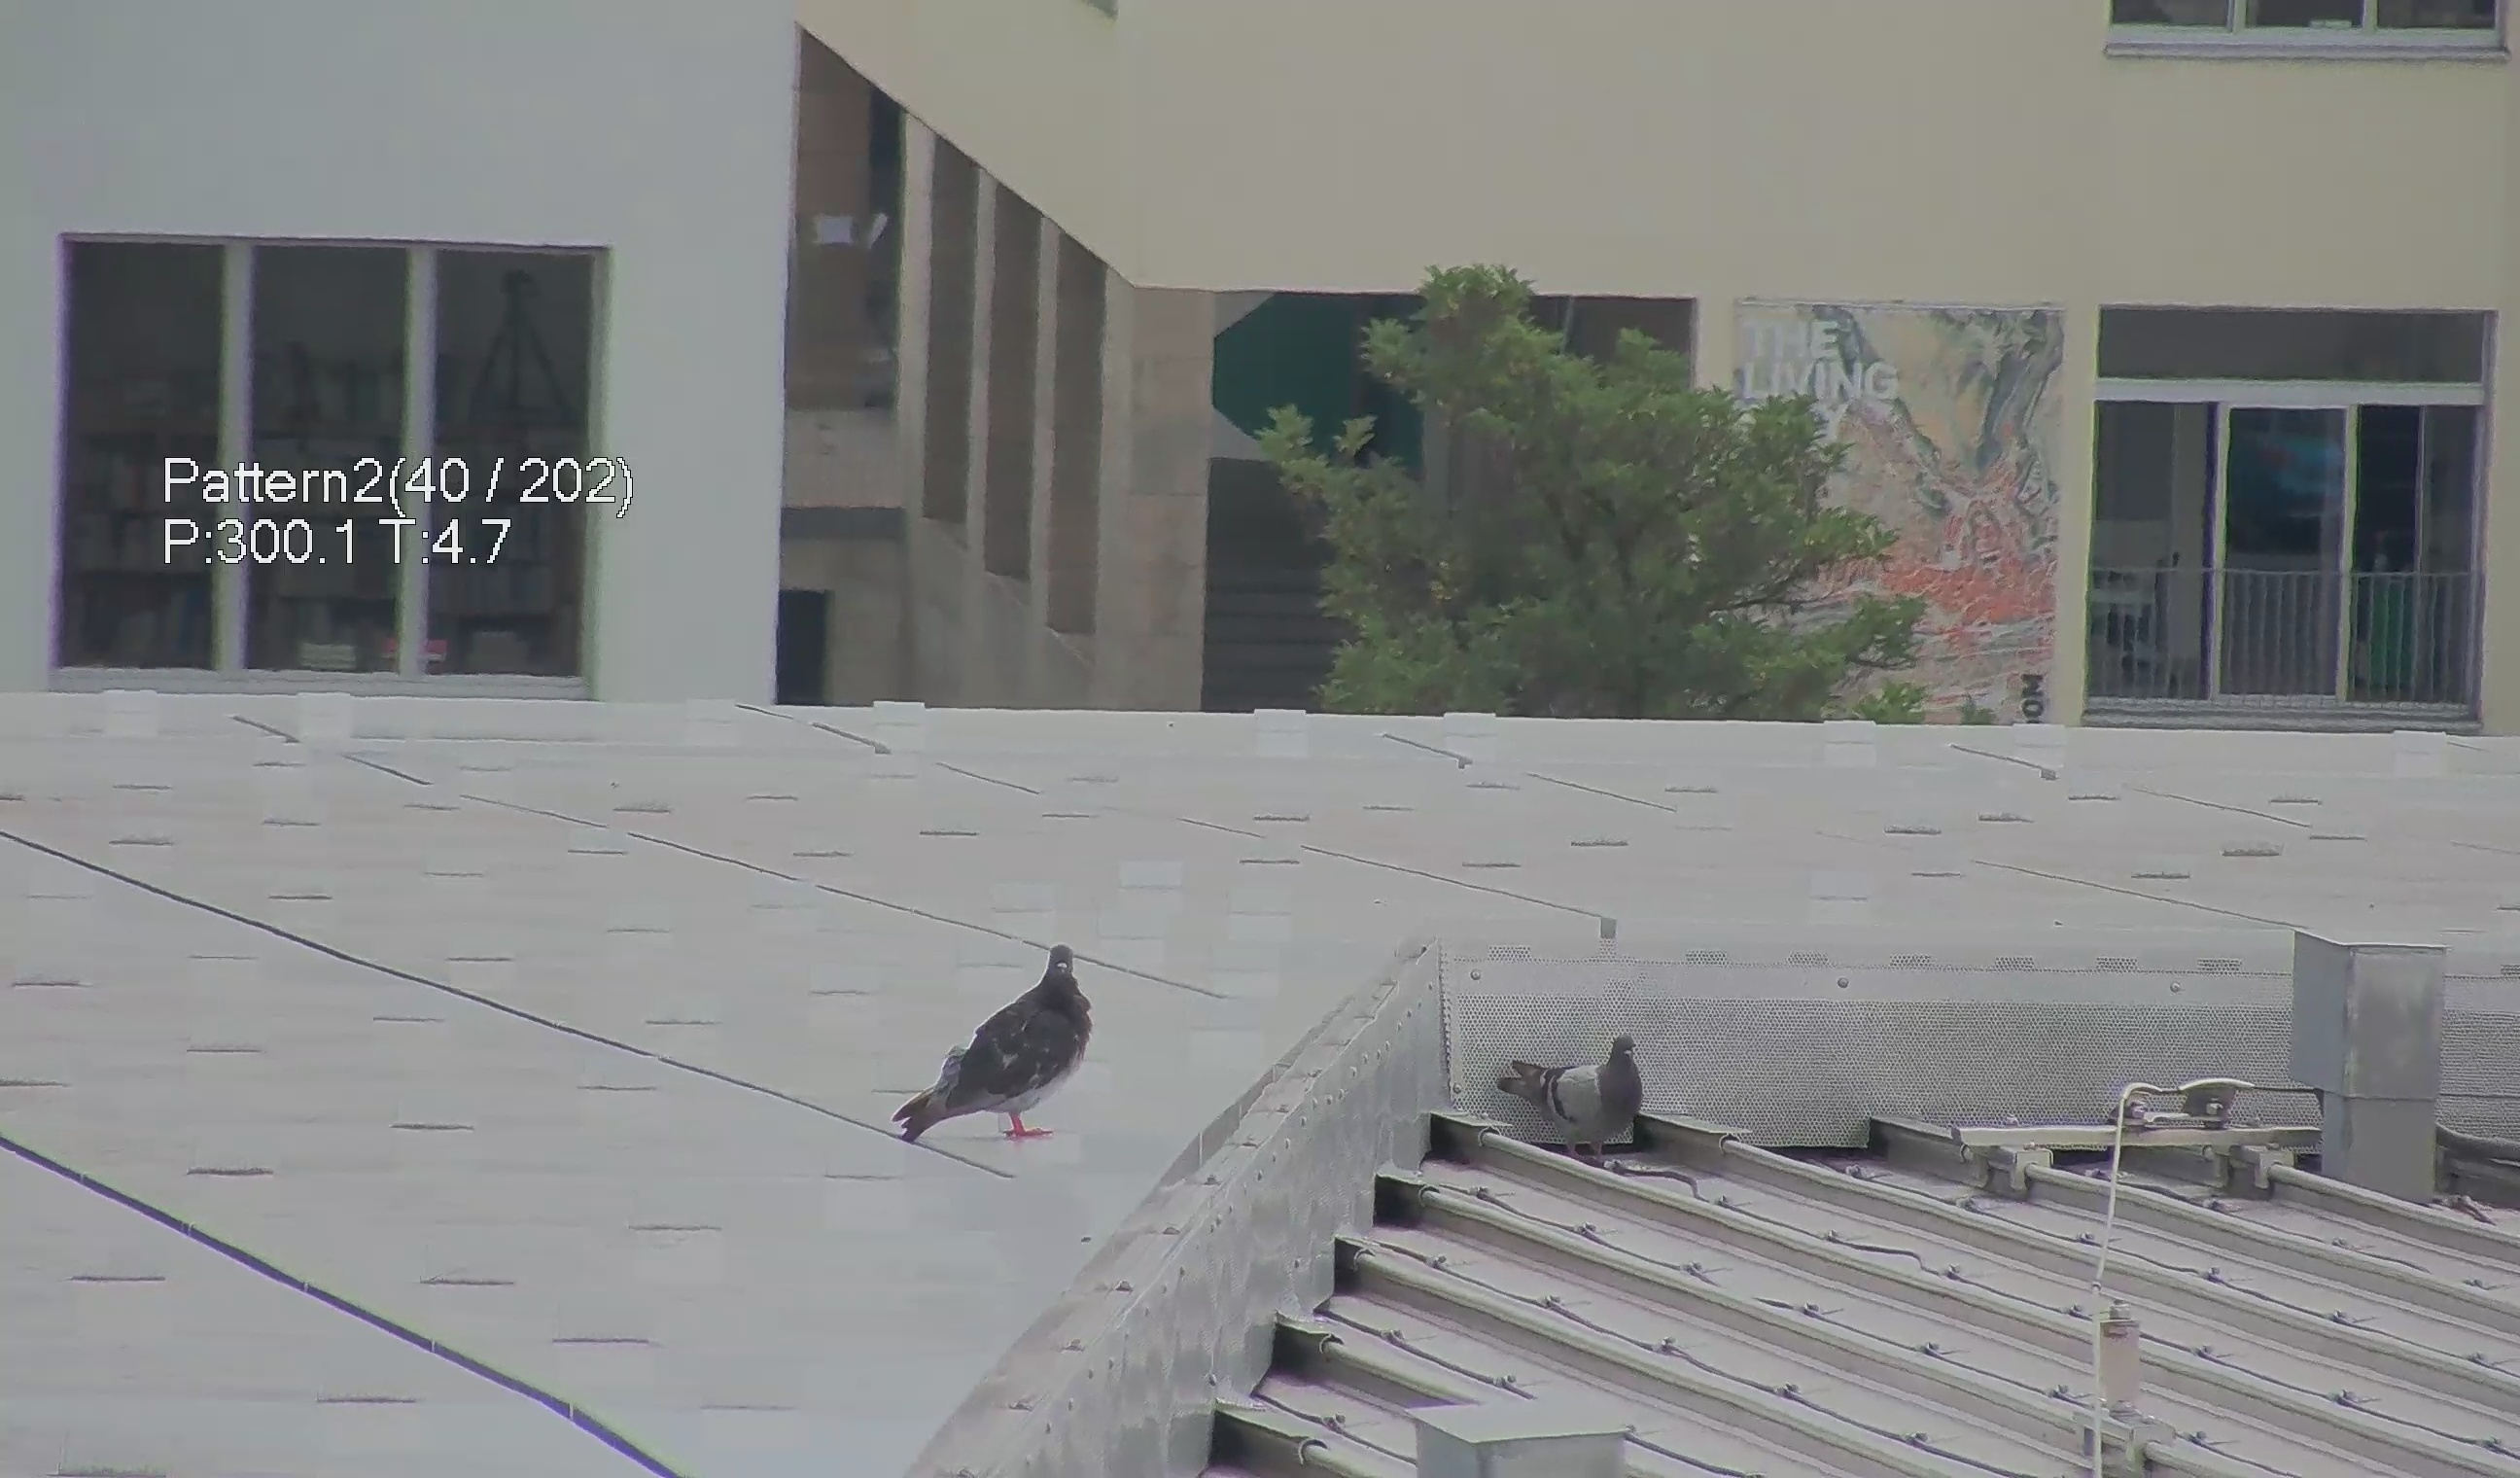Pigeon: (893, 936, 1101, 1160), (1484, 1022, 1662, 1167)
